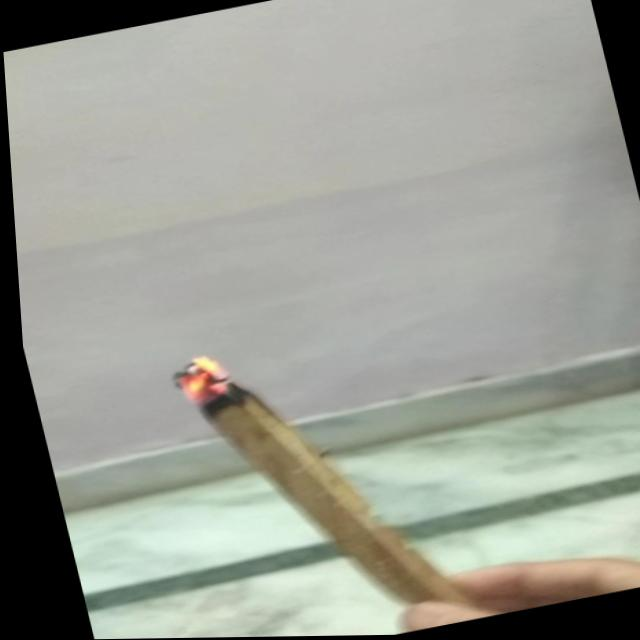fire: (145, 348, 250, 413)
